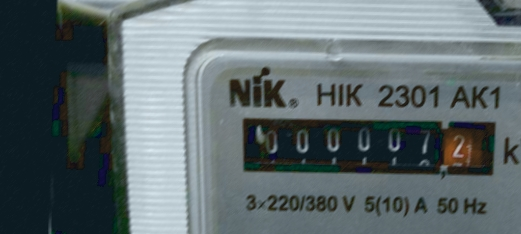0: (323, 126, 342, 153), (293, 127, 311, 155), (386, 125, 403, 154), (262, 128, 280, 155), (356, 125, 372, 152)
2: (450, 131, 467, 161)
7: (415, 127, 432, 157)
screen: (233, 105, 508, 186)
